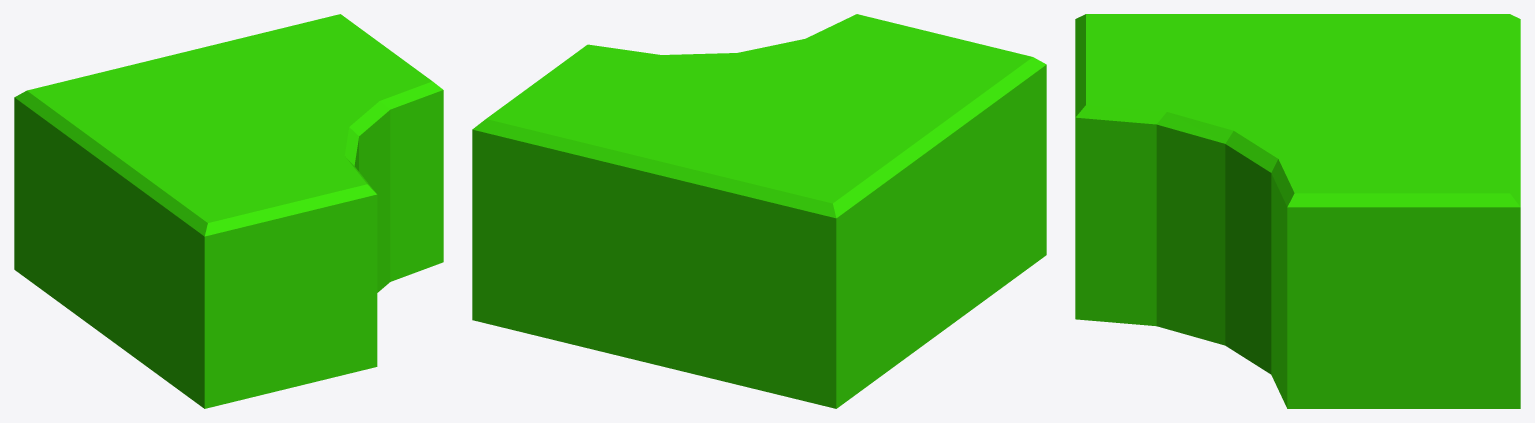
The model's file is round_2x1_03.fbx.
3 renders of one model, left to right at view 1: azimuth 30°, elevation 25°; view 2: azimuth 150°, elevation 25°; view 3: azimuth 270°, elevation 25°, orthographic. The views are drawn at different scales.
Visible parts, largest first — view 1: round_2x1_03; view 2: round_2x1_03; view 3: round_2x1_03.
Part boxes in pixels (x1,y1,x2,y2): round_2x1_03: [14, 14, 443, 408]; round_2x1_03: [472, 14, 1046, 408]; round_2x1_03: [1075, 14, 1520, 408].
Size of the model in its own units: 210 by 110 by 210.
